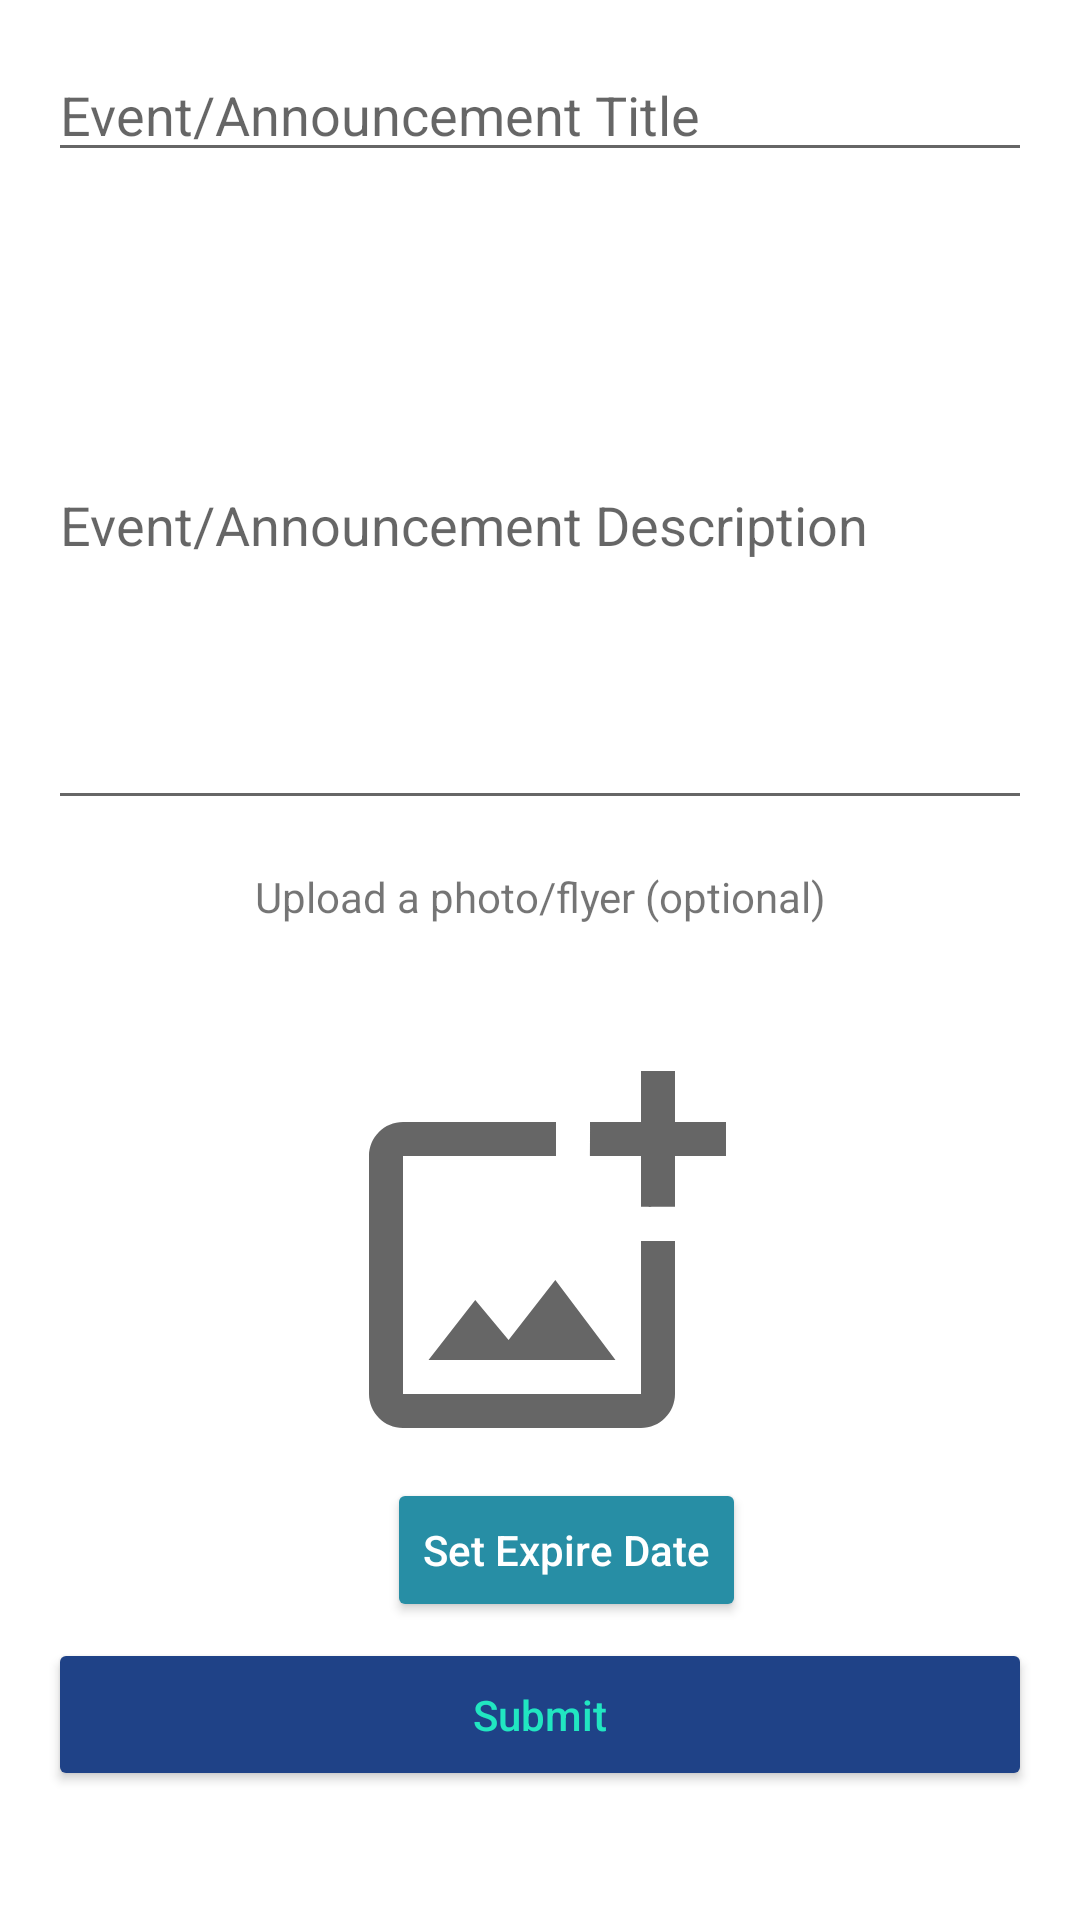

Icons on this 1080 × 1920 Android screen, each with the point to tap as [x,y]:
addimage: [547,1249]
